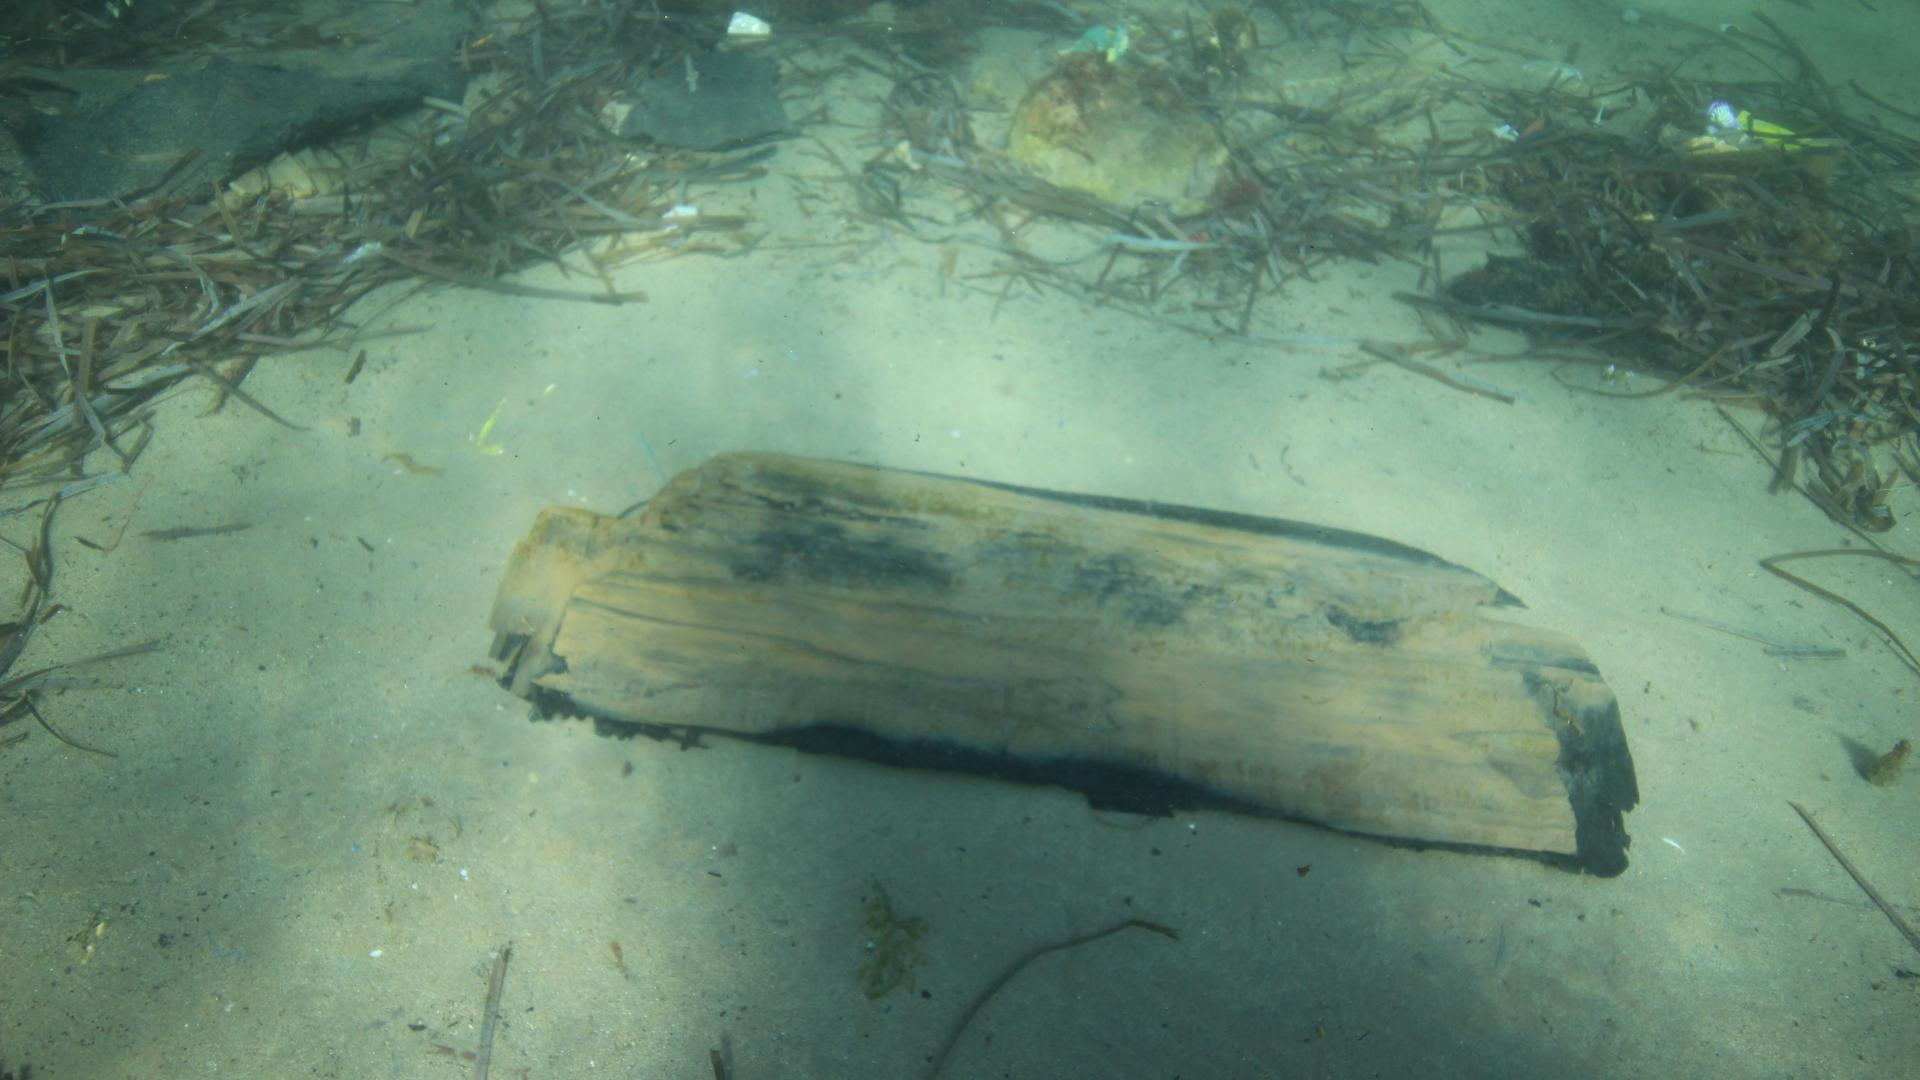wood: (487, 451, 1642, 877)
